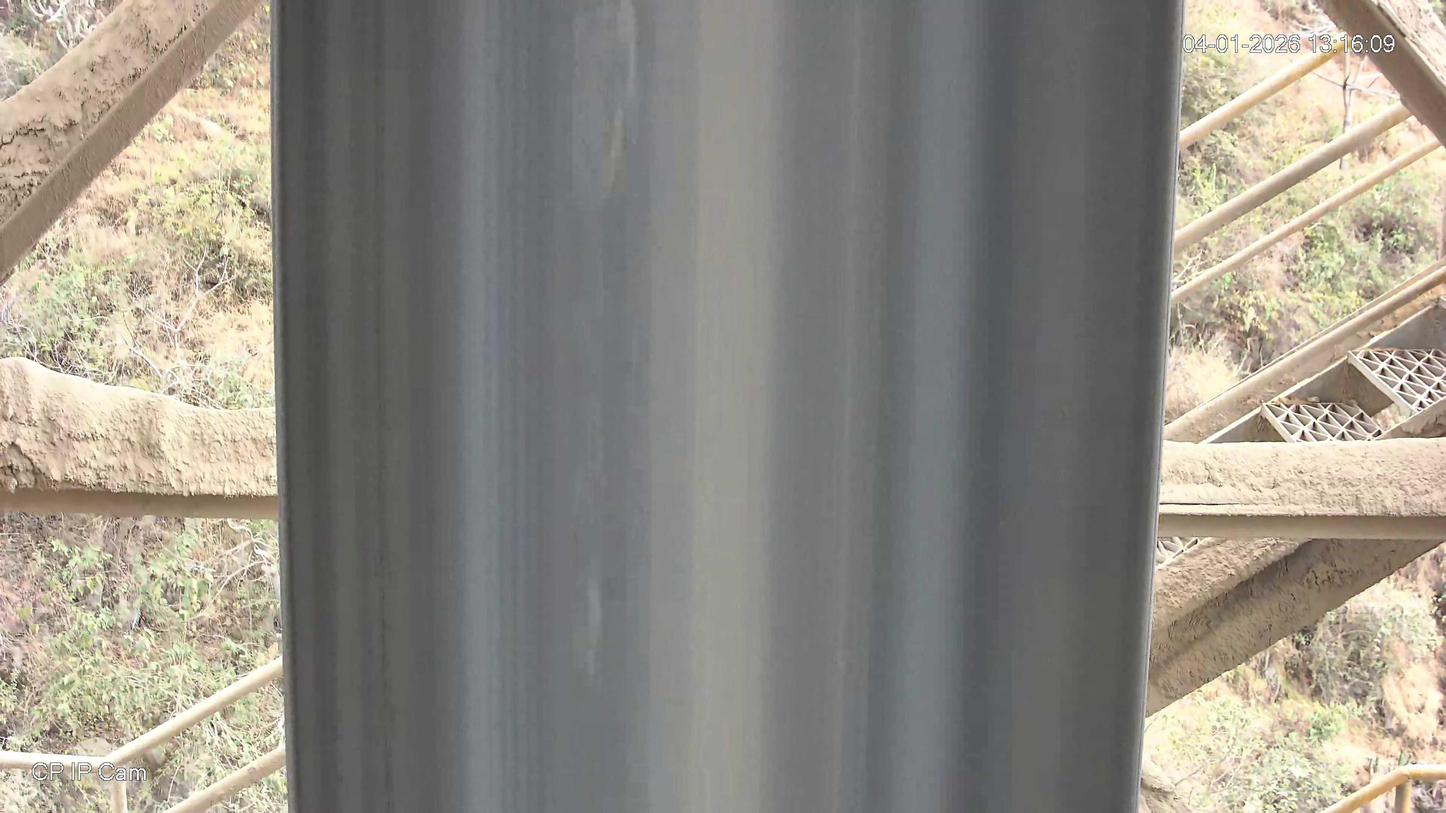belt_roi: (272, 0, 1187, 813)
